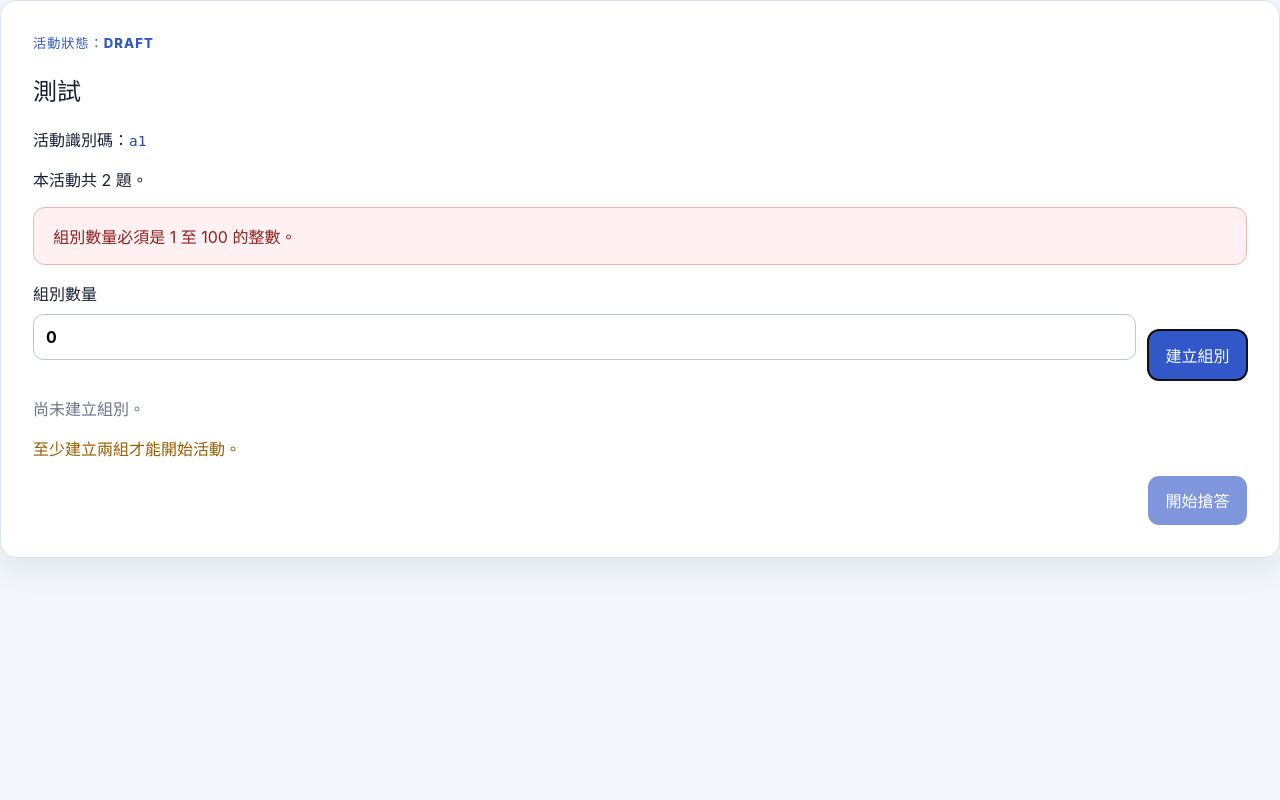
Test: 老師 Guided Notes 匯入介面 › 老師在 DRAFT 依數量建立完整清單，驗證輸入、避免重複送出並確認重設
Earlier steps of the test are not shown.
Check: the message shows "組別數量必須是 1 至 100 的整數", box [53,227,296,247]
Replace the text in the number field labelled "組別數量" with "6" at (584, 337), box [33,314,1136,360]
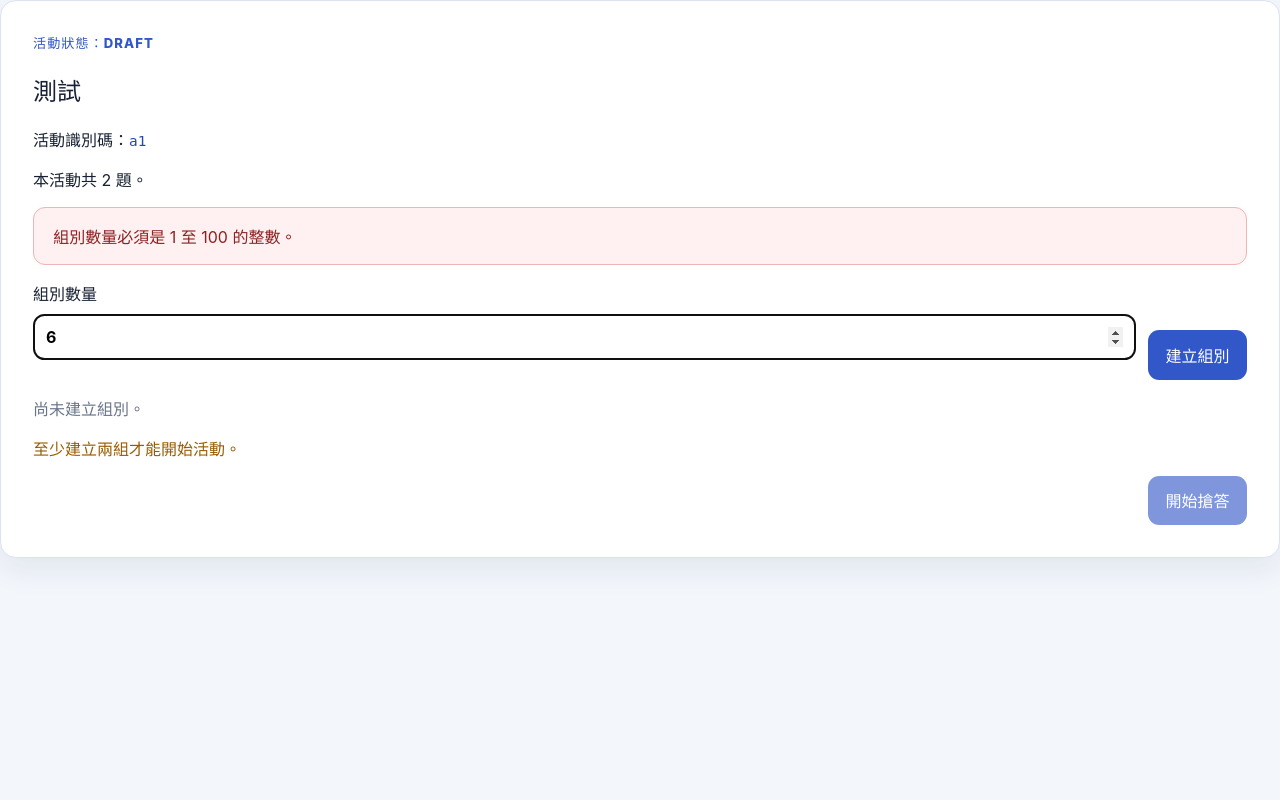
Click the button "建立組別" at (1197, 355), box [1148,330,1247,380]
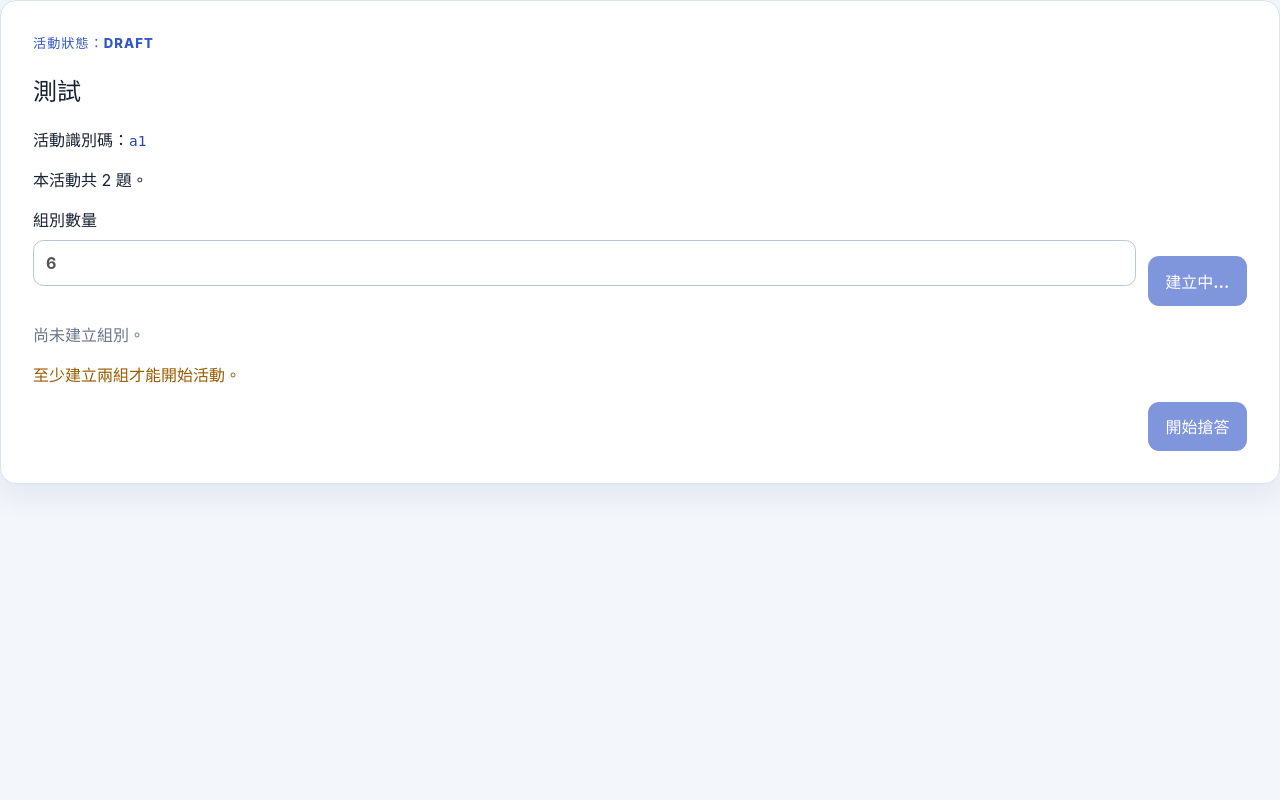
Check: the button "建立中…" is disabled
Click the button "建立中…" at (1197, 281), box [1148,256,1247,306]
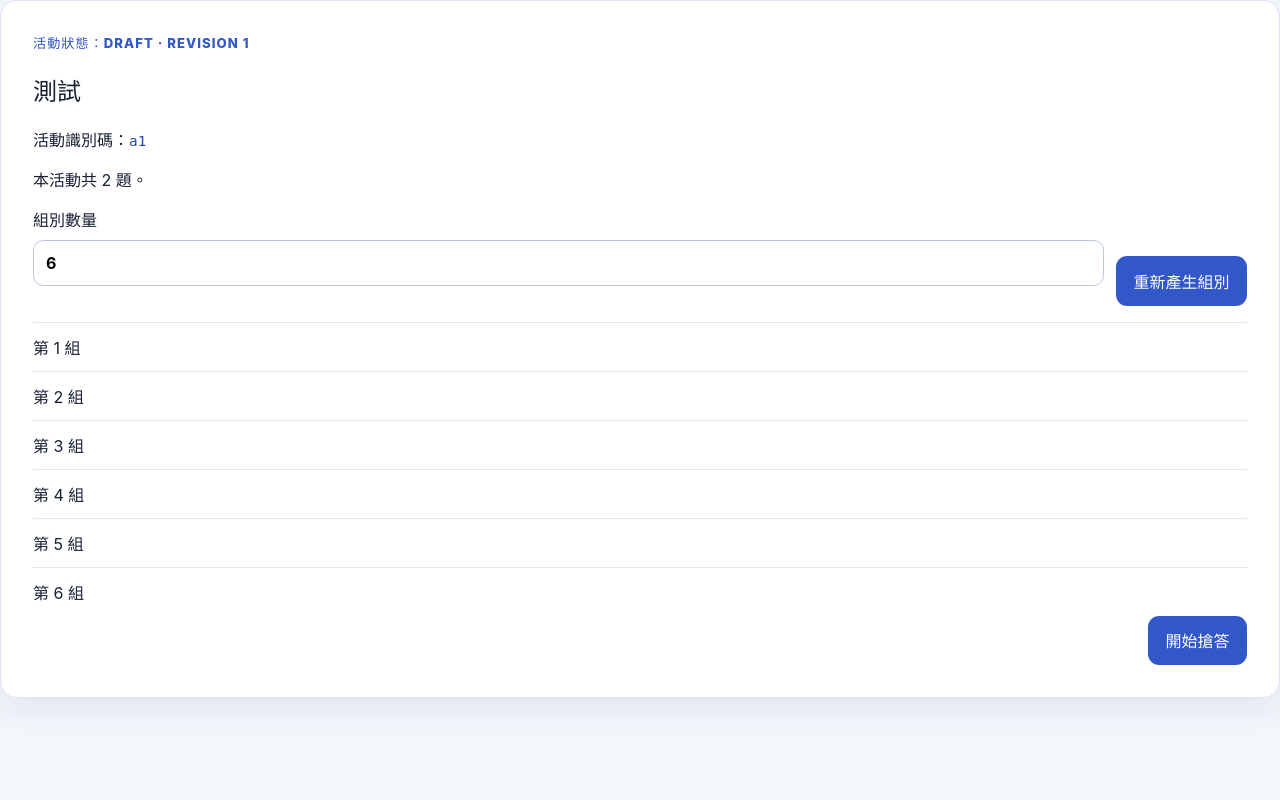
Check: the text "第 6 組" is shown, box [33,580,84,604]
Check: the button "開始搶答" is enabled, box [1148,616,1247,665]
Replace the text in the number field labelled "組別數量" with "3" at (568, 263), box [33,240,1104,286]
Click the button "重新產生組別" at (1181, 281), box [1116,256,1247,306]
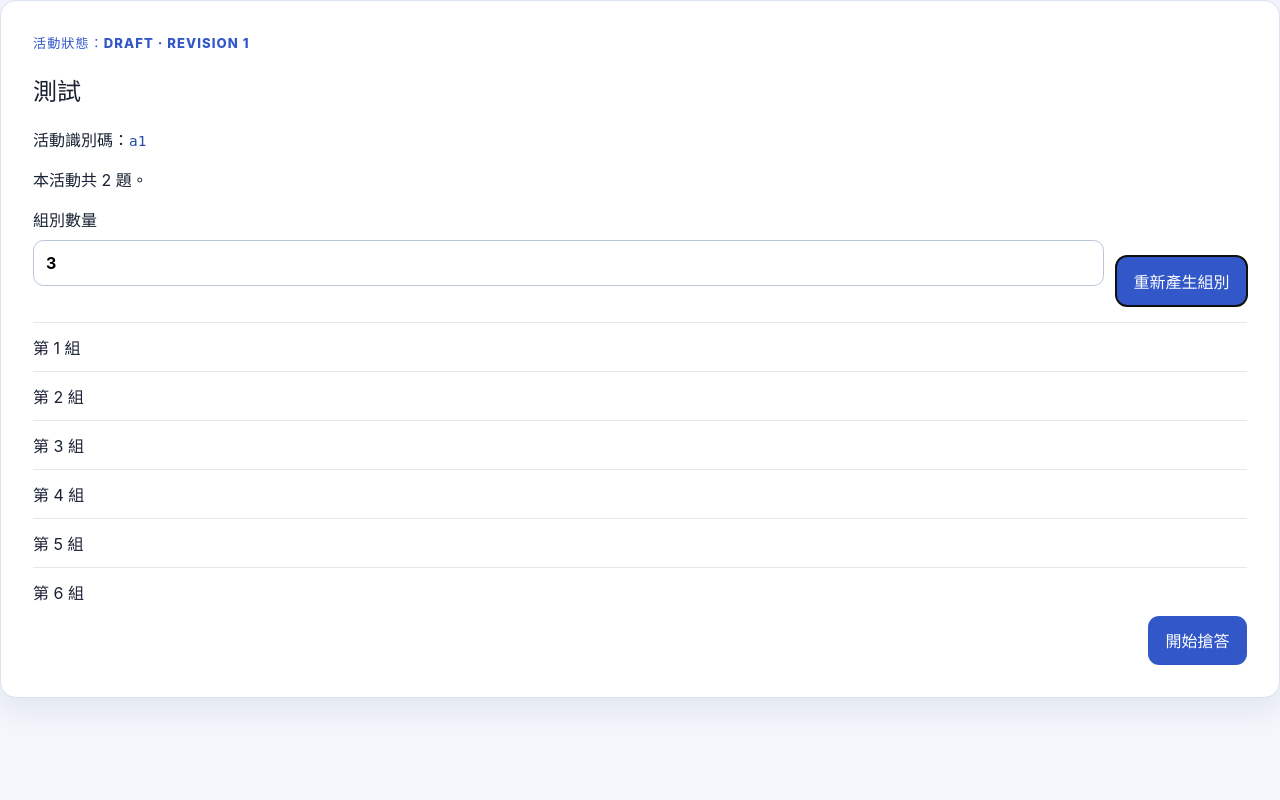
Click the button "重新產生組別" at (1181, 281), box [1116,256,1247,306]
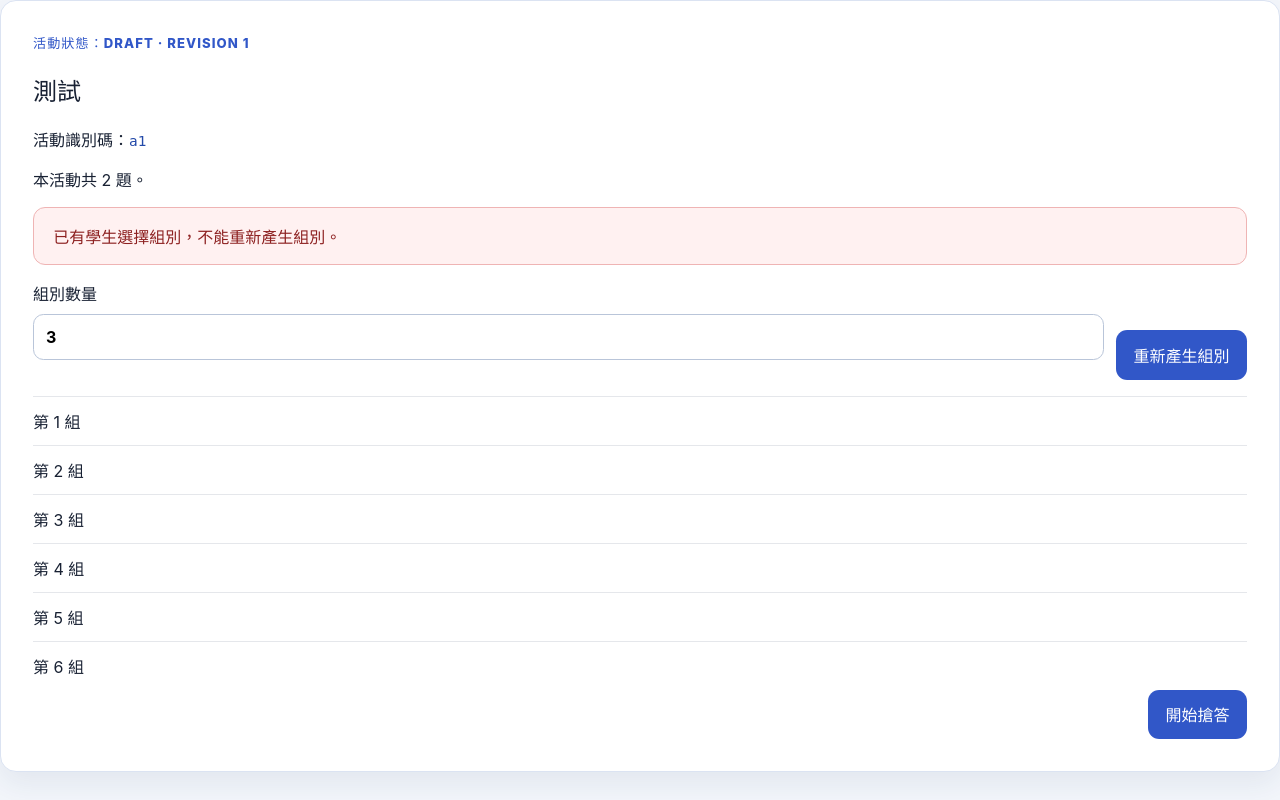
Check: the message shows "已有學生選擇組別", box [53,227,341,247]
Click the button "重新產生組別" at (1181, 355), box [1116,330,1247,380]
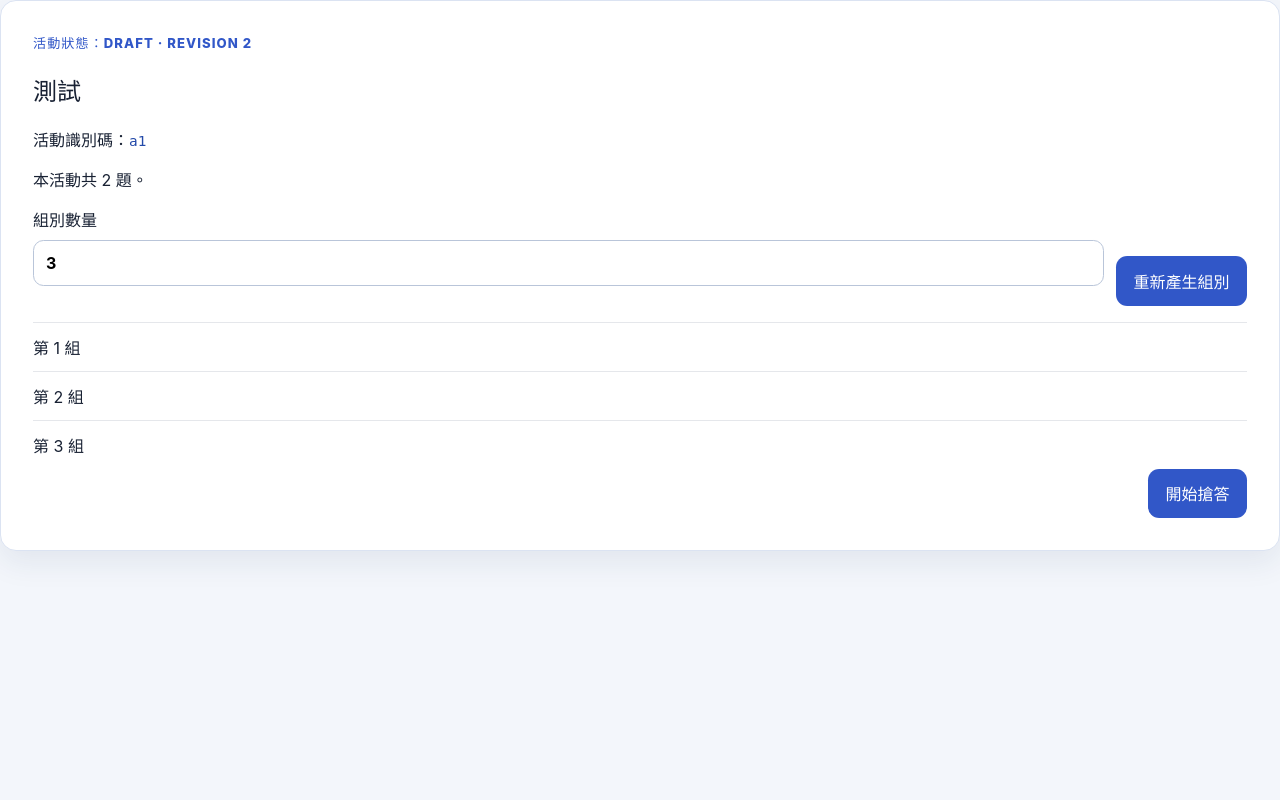
Check: the text "第 3 組" is shown, box [33,433,84,457]
Check: the text "第 6 組" is gone
